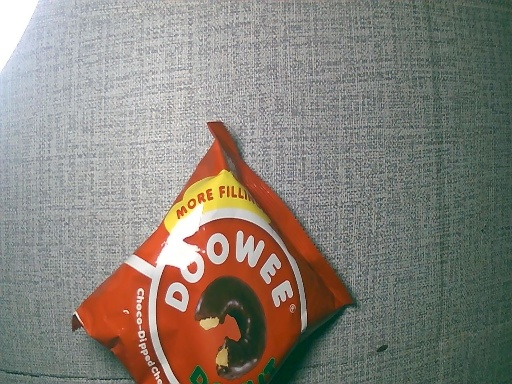plastic: (69, 125, 356, 384)
